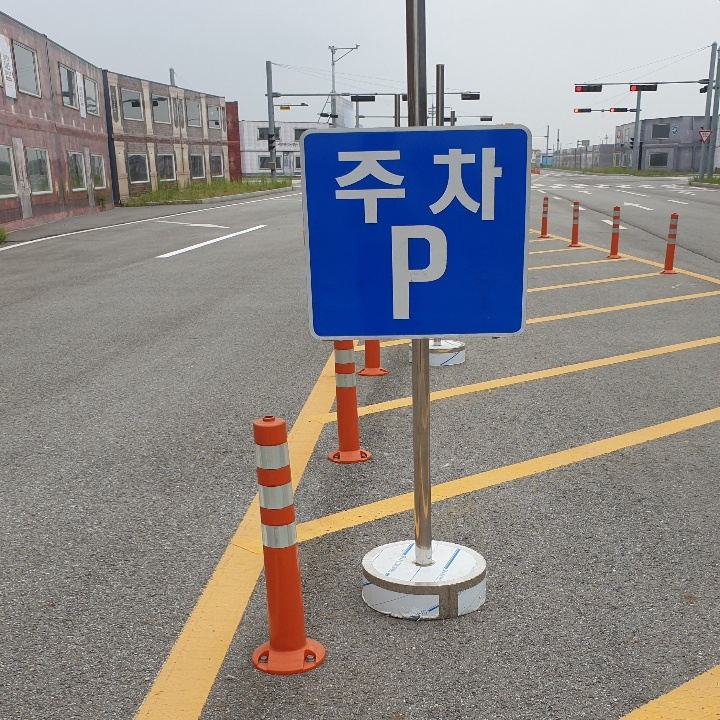parking: (382, 215, 454, 328)
